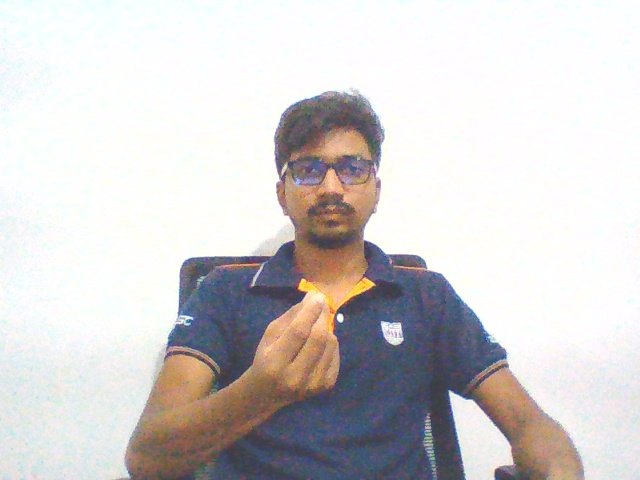dog: (243, 284, 347, 428)
